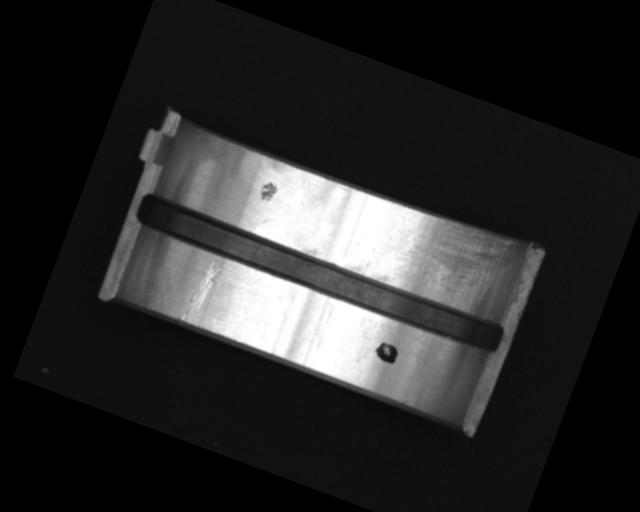blot: (370, 338, 402, 366)
bruise: (254, 177, 281, 206)
gap: (131, 188, 509, 360)
nick: (177, 257, 223, 330)
scratch: (372, 196, 525, 325)
